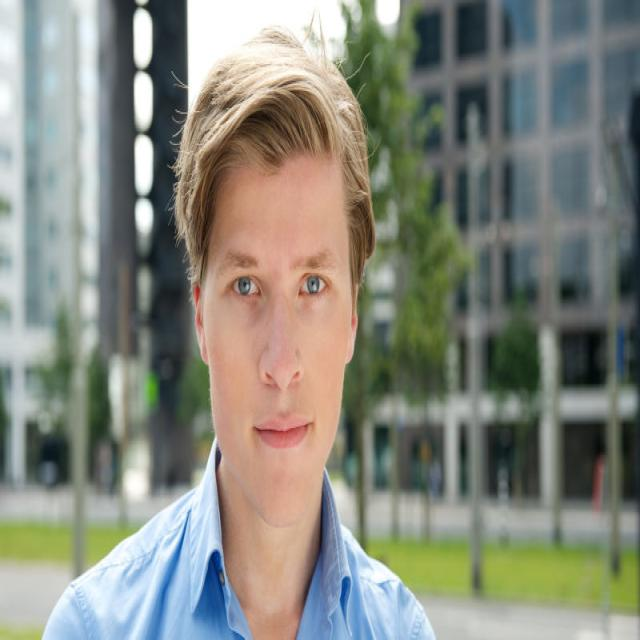mobile_phonerotation: (41, 23, 438, 637)
